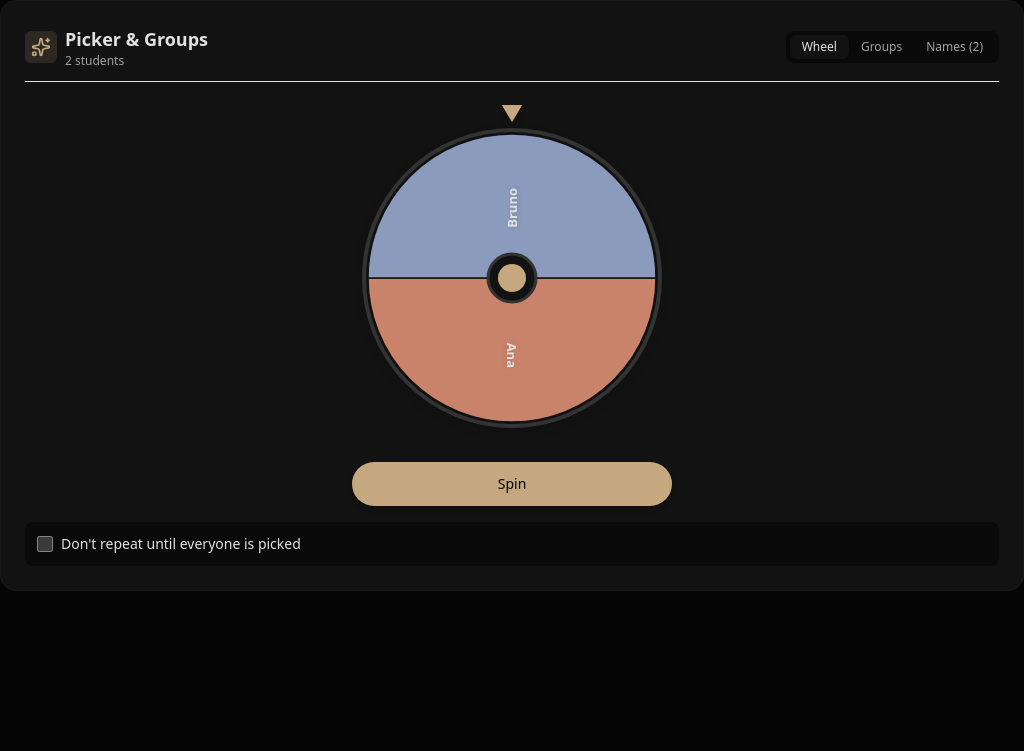
Test: ClassroomPicker (SDD/2026-10-03_06-sorteador-de-alunos-e-grupos.md) › CT06 / CA06: clicking Skip keeps skipped student eligible and spins another student
The width and height of the screenshot is (1024, 751).
Activate "Don't repeat"
Click the checkbox labelled "Don't repeat until everyone is picked" at coordinates (45, 544), box top-left (37, 536), bottom-right (53, 552)
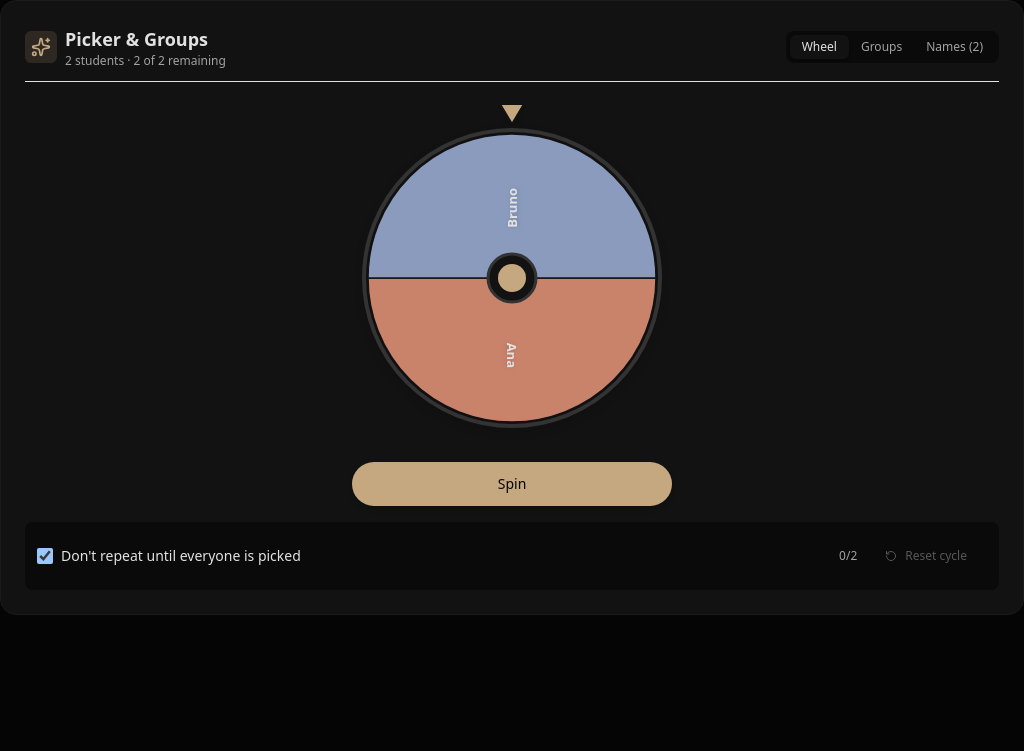
Click the button "Spin" at coordinates (512, 484), box top-left (352, 462), bottom-right (672, 506)
Wait 2500 ms
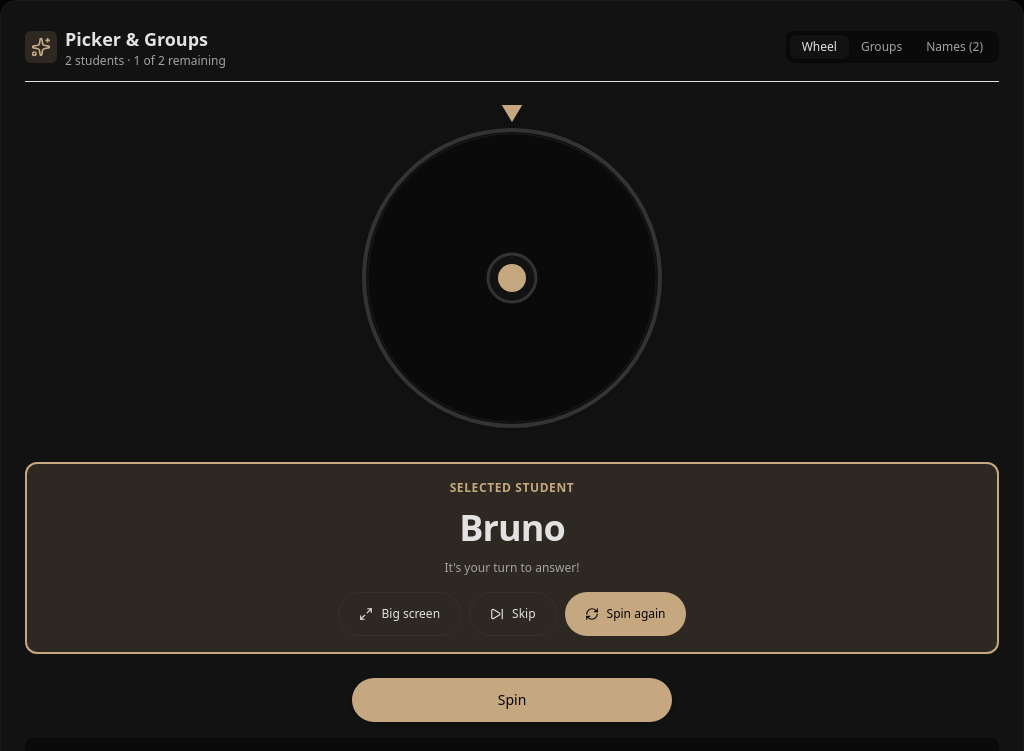
Click Skip
Click the button "Skip" at coordinates (513, 614), box top-left (469, 592), bottom-right (557, 636)
Wait 2500 ms
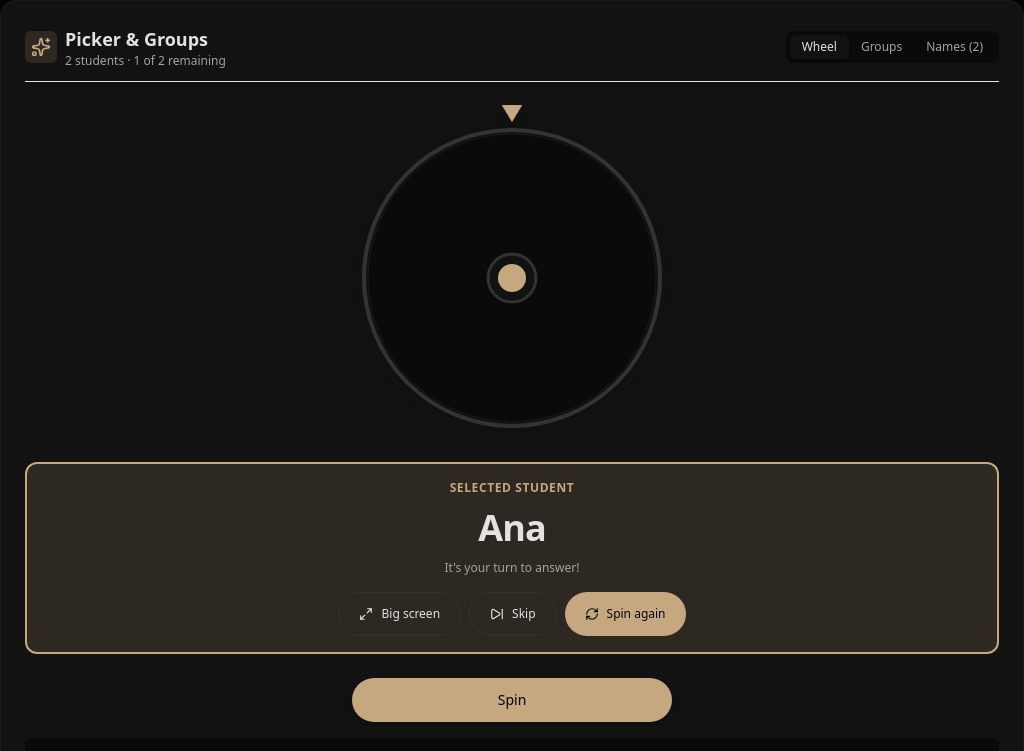
Now the text "2 students · 1 of 2 remaining" is shown, box top-left (65, 53), bottom-right (226, 69)
Now the text "Ana" is shown, box top-left (478, 503), bottom-right (546, 552)
